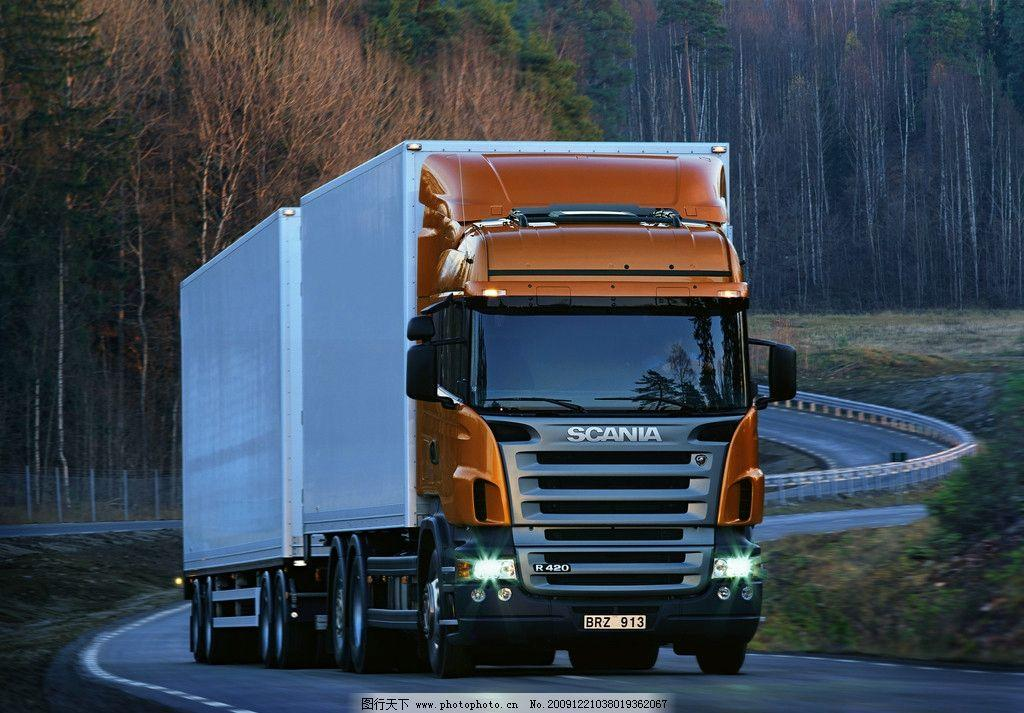truck: (142, 127, 804, 691)
